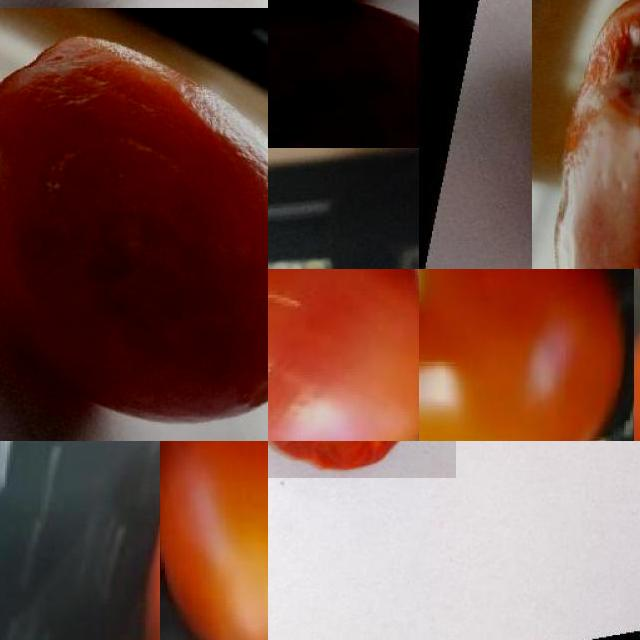0: (419, 269, 634, 441), (558, 269, 640, 441)
1: (532, 0, 640, 269), (268, 269, 419, 441), (268, 0, 419, 148)
Fresh Tomato: (160, 441, 268, 640)
Rotten Tomato: (0, 8, 268, 441)
